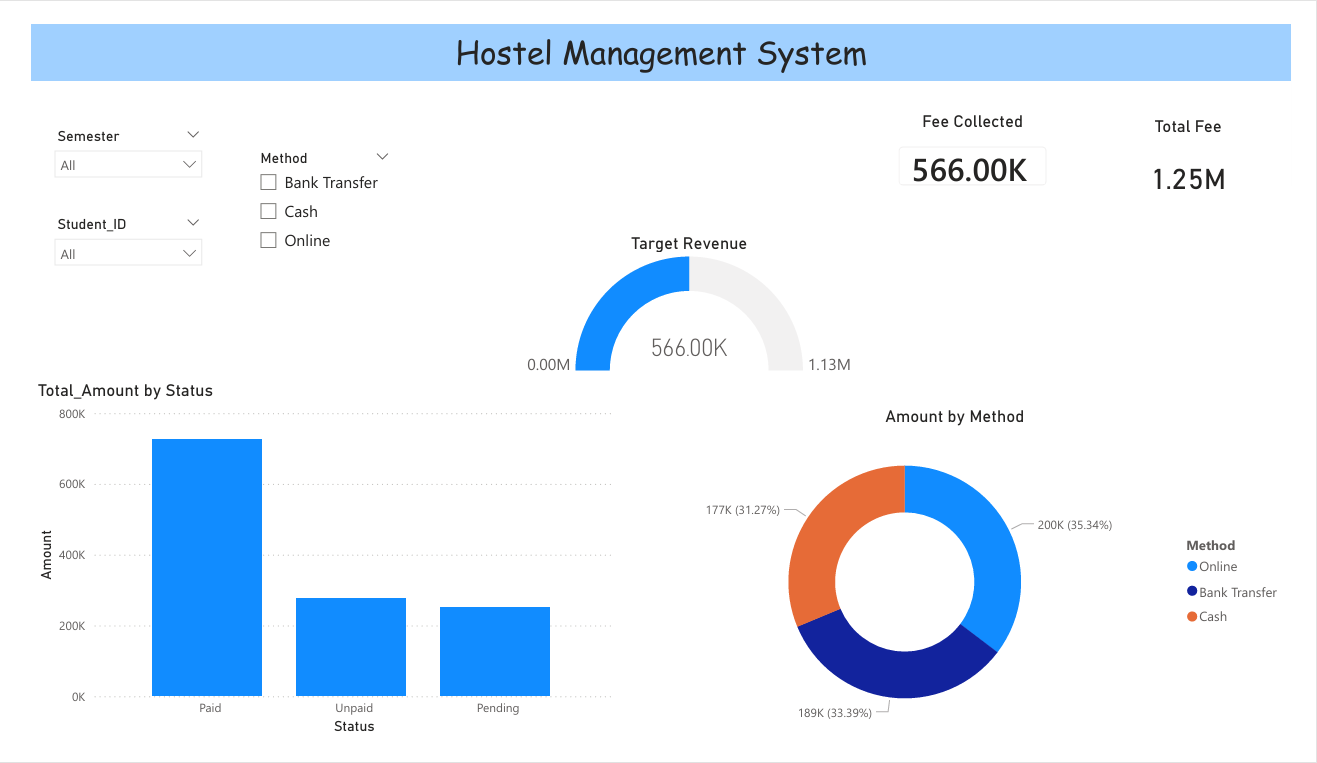

This screenshot's page, from the dashboard's own definition file:
{"tool":"powerbi","page":{"name":"Page 2","canvas":[1280,720],"ordinal":1},"visuals":[{"type":"donutChart","title":"Amount by Method","fields":{"Category":["payment.Method"],"Y":["Sum(payment.Amount_Paid)"]},"box":[601.3,384.9,679.2,335.6],"z":0},{"type":"card","title":"Total Fee","fields":{"Values":["Sum(fee.Total_Amount)"]},"box":[1091.2,92.3,170.2,103.4],"z":1000},{"type":"textbox","box":[9.1,0,1270.9,57.3],"z":2000},{"type":"clusteredColumnChart","title":"Total_Amount by Status","fields":{"Y":["Sum(fee.Total_Amount)"],"Category":["fee.Status"]},"box":[9.5,359.5,591.7,361.1],"z":3000},{"type":"slicer","fields":{"Values":["fee.Student_ID"]},"box":[22.3,187.7,168.6,68.4],"z":4000},{"type":"slicer","fields":{"Values":["fee.Semester"]},"box":[22.3,98.6,168.6,68.4],"z":5000},{"type":"slicer","fields":{"Values":["payment.Method"]},"box":[227.5,120.9,154.3,133.6],"z":6000},{"type":"gauge","title":"Target Revenue","fields":{"TargetValue":["Sum(fee.Total_Amount)"],"Y":["Sum(payment.Amount_Paid)"]},"box":[499.5,210,346.8,149.5],"z":7000},{"type":"cardVisual","title":"Fee Collected","fields":{"Data":["Sum(payment.Amount_Paid)"]},"box":[866.9,87.5,182.9,92.3],"z":8000}]}

Visuals, with their boxes in screenshot pixels (x1, y1, x2, y2), scaled from the page's 1280x720 canvas onto the 1317x763 screenshot:
"Amount by Method" donutChart: Rect(619, 408, 1316, 762)
"Total Fee" card: Rect(1123, 98, 1298, 207)
textbox: Rect(9, 0, 1316, 61)
"Total_Amount by Status" clusteredColumnChart: Rect(10, 381, 619, 762)
slicer - fee.Student_ID: Rect(23, 199, 196, 271)
slicer - fee.Semester: Rect(23, 104, 196, 177)
slicer - payment.Method: Rect(234, 128, 393, 270)
"Target Revenue" gauge: Rect(514, 223, 871, 381)
"Fee Collected" cardVisual: Rect(892, 93, 1080, 191)
